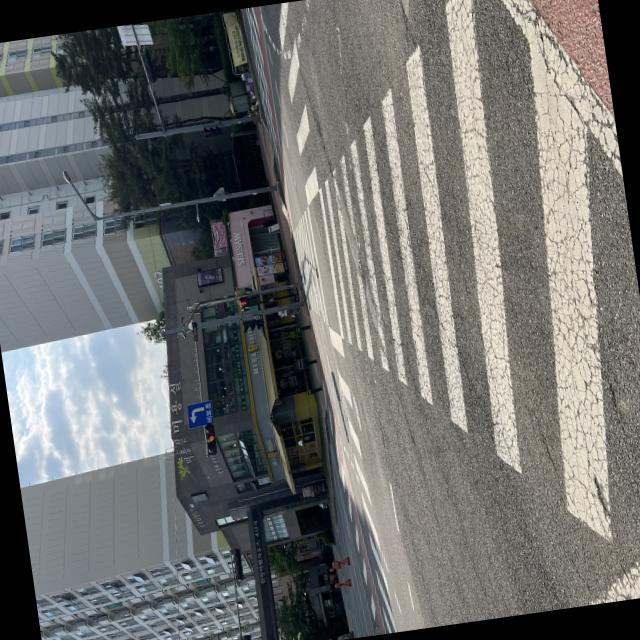red_light: (236, 284, 268, 308)
